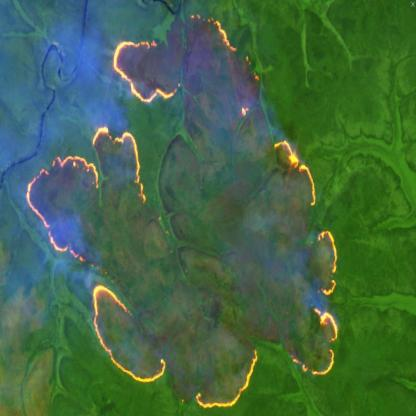fire: (19, 0, 344, 416)
